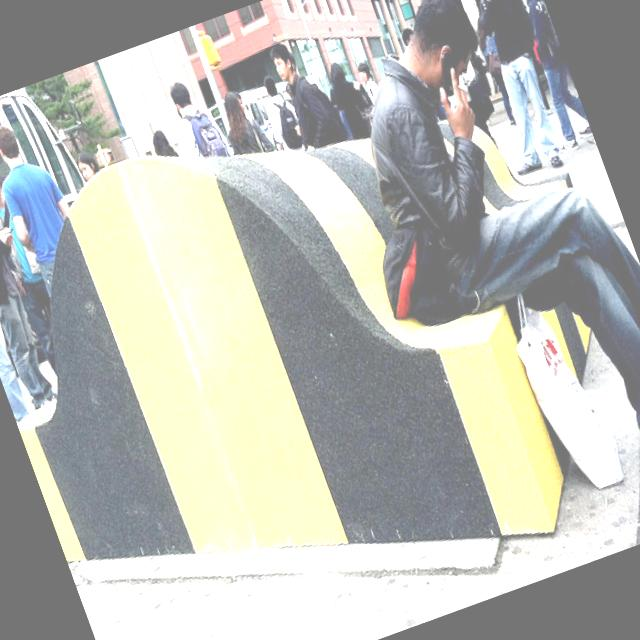Vehicle: (0, 79, 137, 376), (205, 76, 307, 165)
